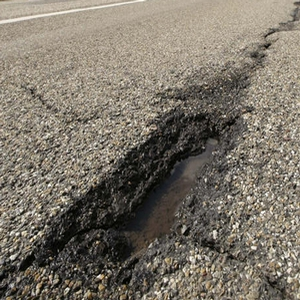pothole: (58, 114, 237, 284)
